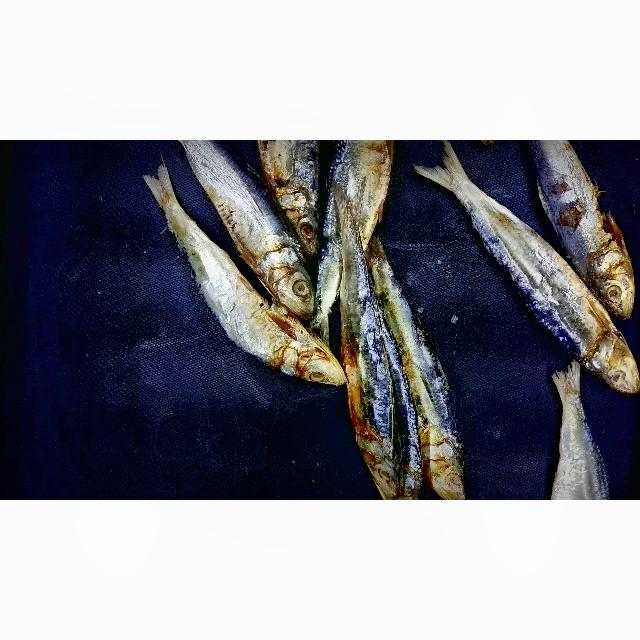Grade_B_Body: (171, 241, 282, 374), (474, 229, 597, 341), (336, 296, 408, 452), (382, 305, 466, 431), (532, 152, 640, 246), (185, 162, 294, 248)
Grade_B_Head: (284, 313, 347, 403), (573, 251, 640, 320), (256, 259, 326, 317), (571, 342, 640, 398), (425, 462, 481, 500), (366, 458, 407, 500)
